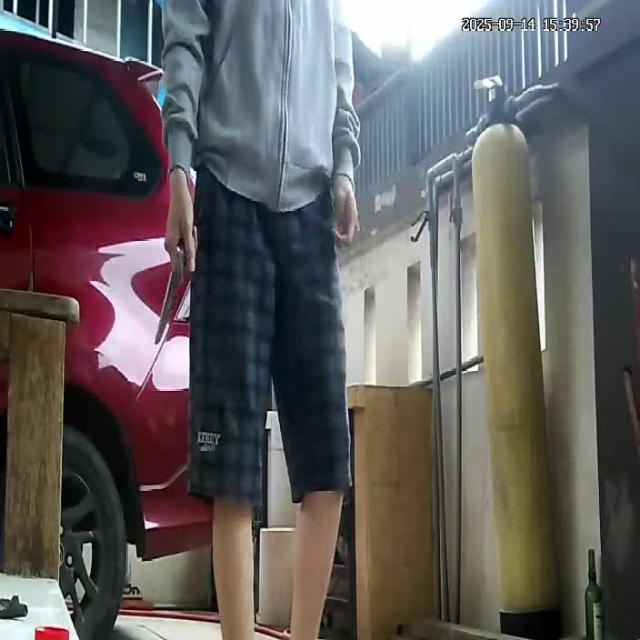senjata_tajam: (154, 244, 186, 346)
